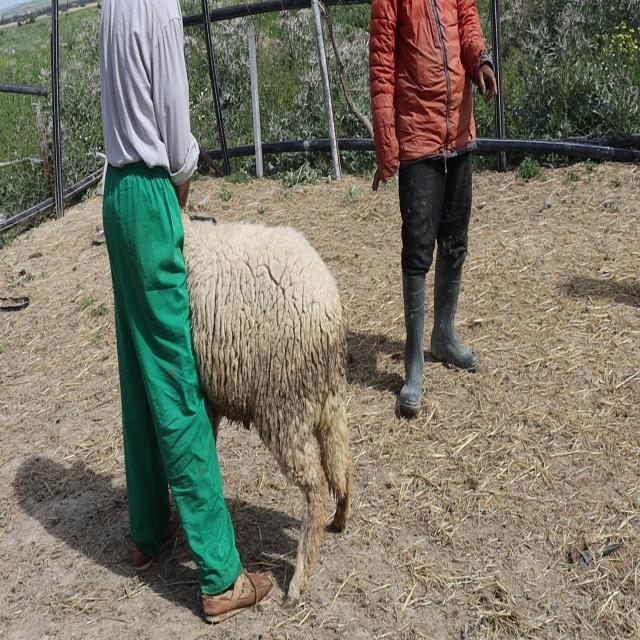Score_4: (183, 219, 353, 603)
